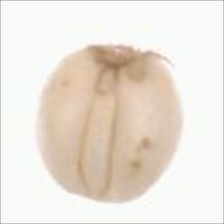L5: (76, 62, 125, 196), (81, 38, 171, 75)
L6: (35, 42, 187, 205)
